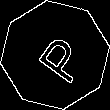P_NW: (24, 25, 86, 85)
